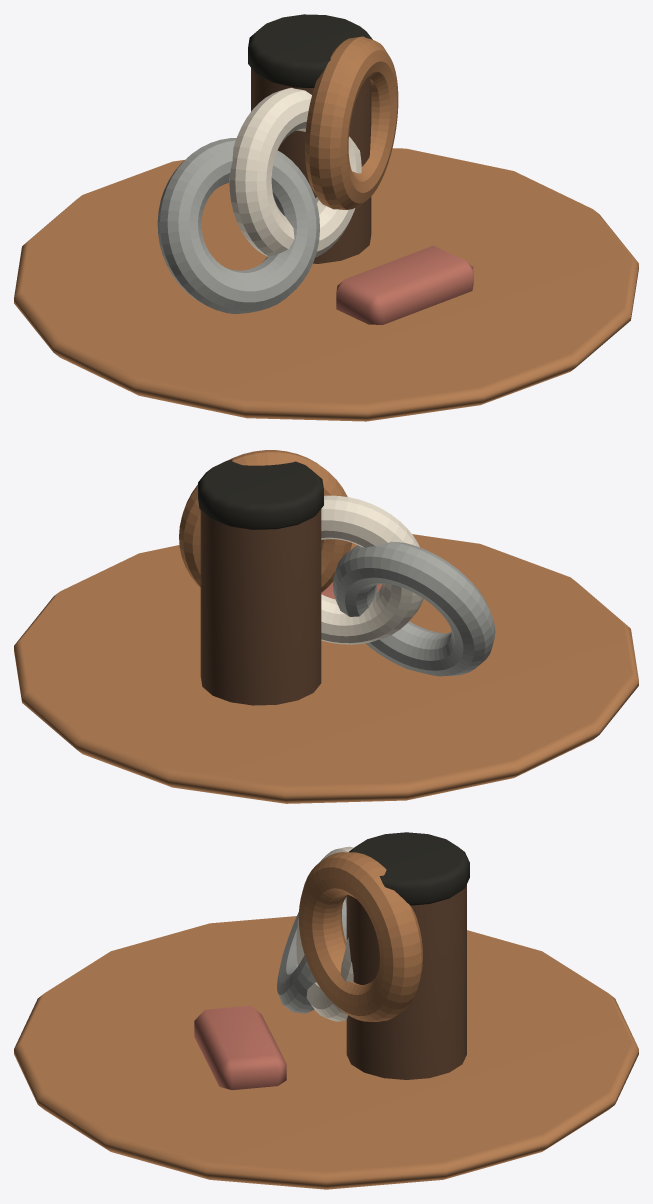
The model's file is accessories.glb.
3 renders of one model, top to bottom at view 1: azimuth 30°, elevation 25°; view 2: azimuth 150°, elevation 25°; view 3: azimuth 270°, elevation 25°, orthographic.
Parts seen in each view (by area): view 1: Cone, Torus, Torus.002, Torus.001, Cube, Cone.002, Cone.001; view 2: Cone, Cone.001, Torus, Torus.001, Cone.002, Torus.002; view 3: Cone, Cone.001, Torus.002, Cube, Cone.002, Torus, Torus.001.
Part boxes in pixels (bbox=[...]): Cone: bbox=[14, 148, 638, 421]; Torus: bbox=[157, 138, 319, 313]; Torus.002: bbox=[305, 36, 398, 209]; Torus.001: bbox=[229, 87, 361, 257]; Cube: bbox=[336, 245, 473, 324]; Cone.002: bbox=[248, 14, 372, 87]; Cone.001: bbox=[251, 68, 371, 263]; Cone: bbox=[14, 534, 638, 803]; Cone.001: bbox=[200, 509, 321, 705]; Torus: bbox=[333, 541, 495, 676]; Torus.001: bbox=[321, 495, 423, 644]; Cone.002: bbox=[198, 459, 323, 529]; Torus.002: bbox=[179, 450, 351, 592]; Cone: bbox=[14, 916, 638, 1189]; Cone.001: bbox=[346, 884, 466, 1079]; Torus.002: bbox=[298, 852, 422, 1021]; Cube: bbox=[194, 1005, 286, 1090]; Cone.002: bbox=[349, 832, 469, 905]; Torus: bbox=[277, 899, 346, 1013]; Torus.001: bbox=[296, 846, 353, 1021].
Size of the model in its own units: 2.18 by 0.861 by 2.18.
